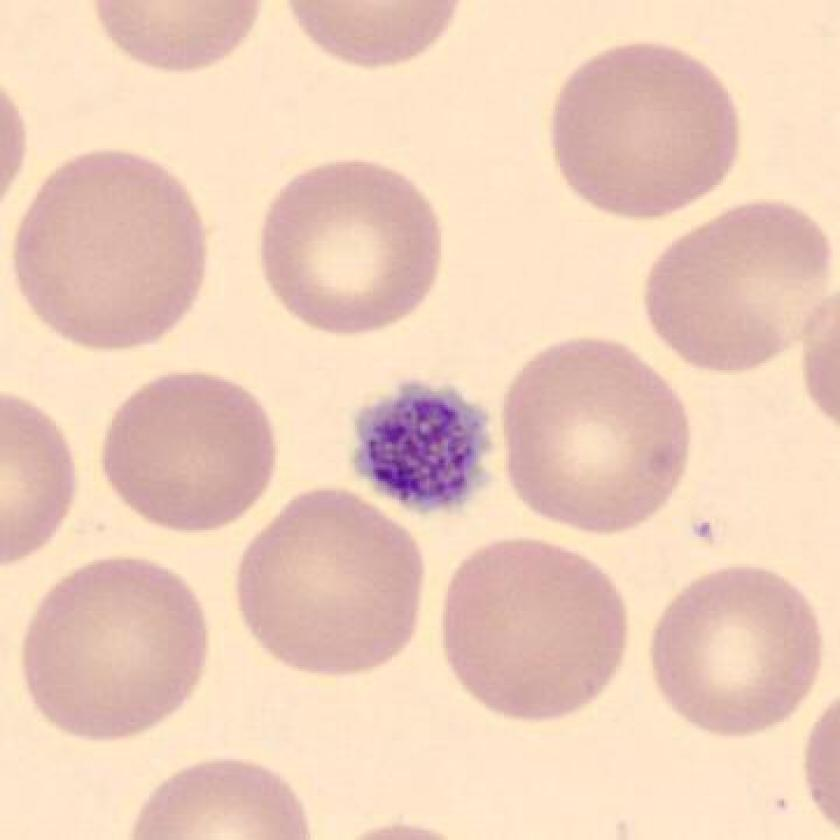platelets: (344, 367, 500, 533)
